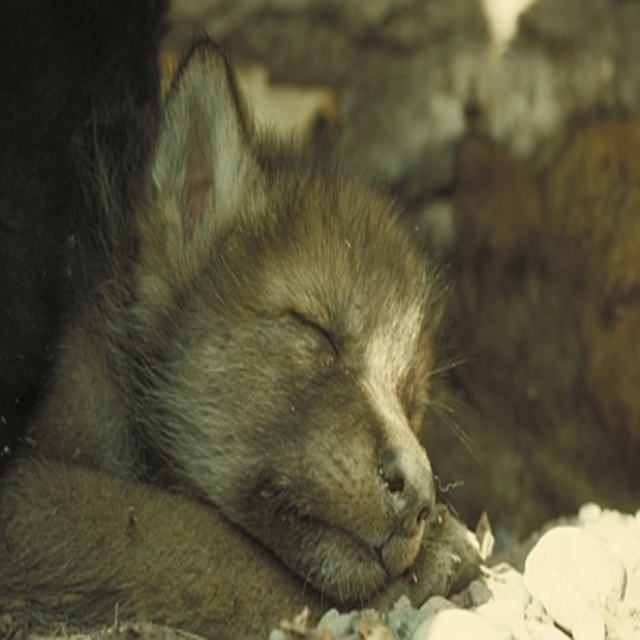Fox: (0, 10, 490, 637)
